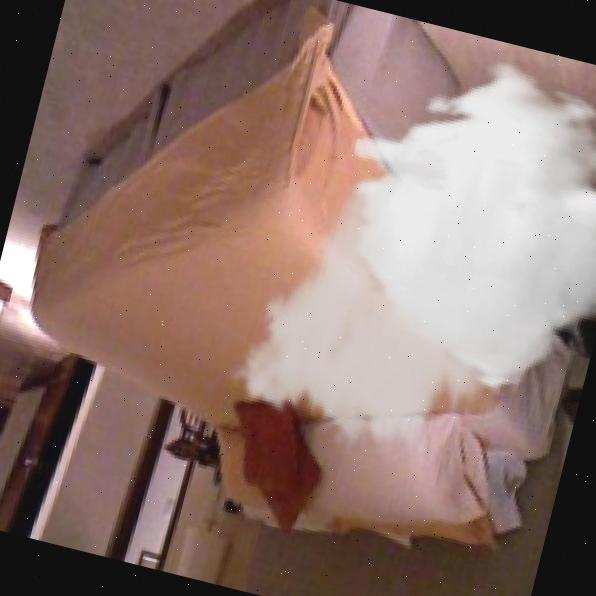smoke: (213, 13, 596, 505)
